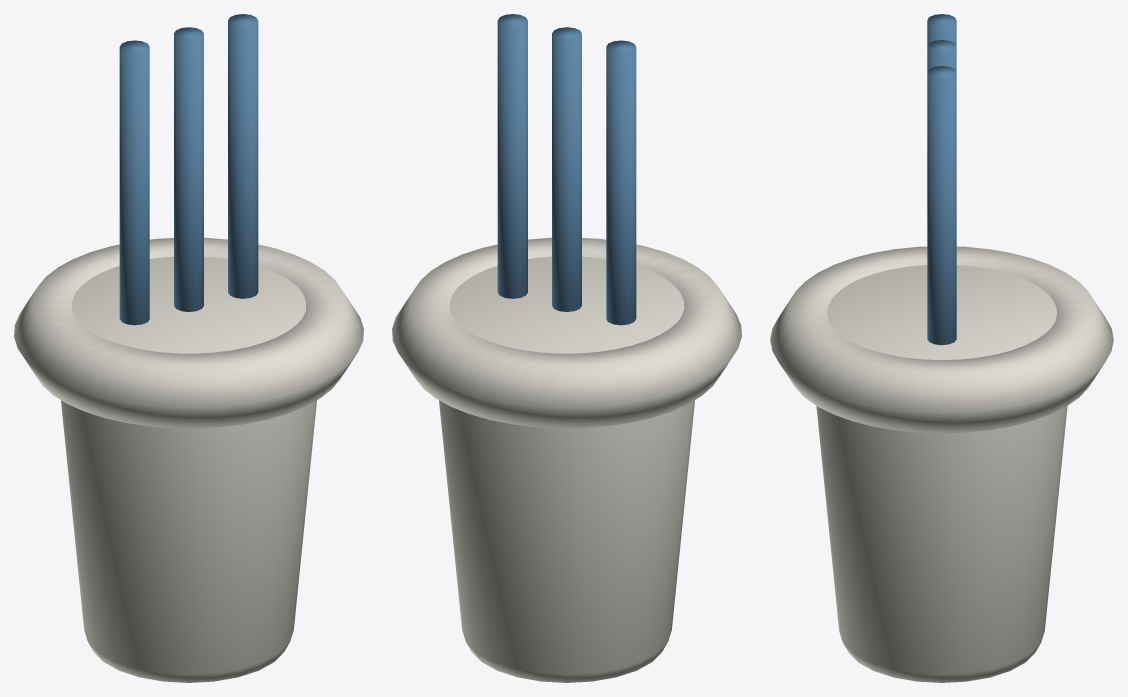
Rendered from atelier-decorative-toiletries.glb.
3 views of the same model, side by side, from view 1: azimuth 30°, elevation 25°; view 2: azimuth 150°, elevation 25°; view 3: azimuth 270°, elevation 25° (orthographic).
Parts seen in each view (by area): view 1: ceramic.111, artBlue.022; view 2: ceramic.111, artBlue.022; view 3: ceramic.111, artBlue.022.
Part boxes in pixels (box(x1,y1,x2,y2)): ceramic.111: box(14, 237, 363, 682); artBlue.022: box(119, 14, 258, 325); ceramic.111: box(392, 237, 741, 682); artBlue.022: box(497, 14, 636, 325); ceramic.111: box(770, 246, 1113, 682); artBlue.022: box(927, 14, 956, 344).
Size of the model in its own units: 0.14 by 0.27 by 0.14.
